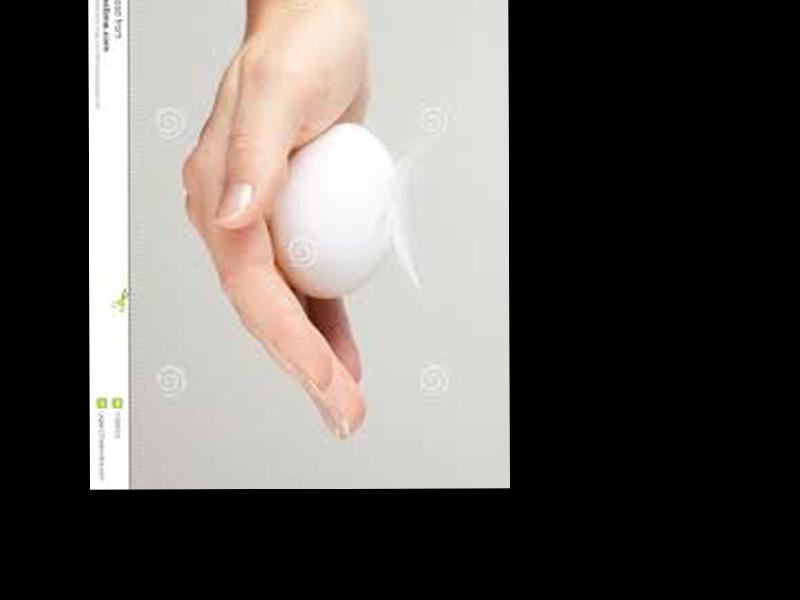Eggs: (271, 121, 393, 301)
